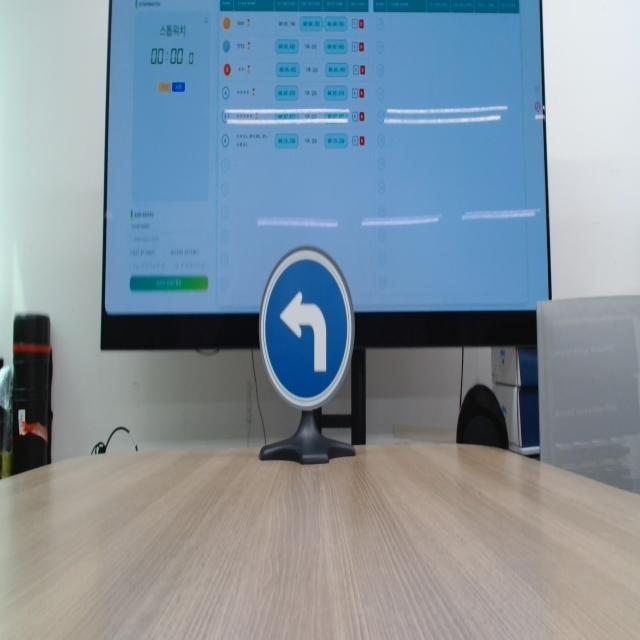left_direction: (250, 242, 359, 414)
